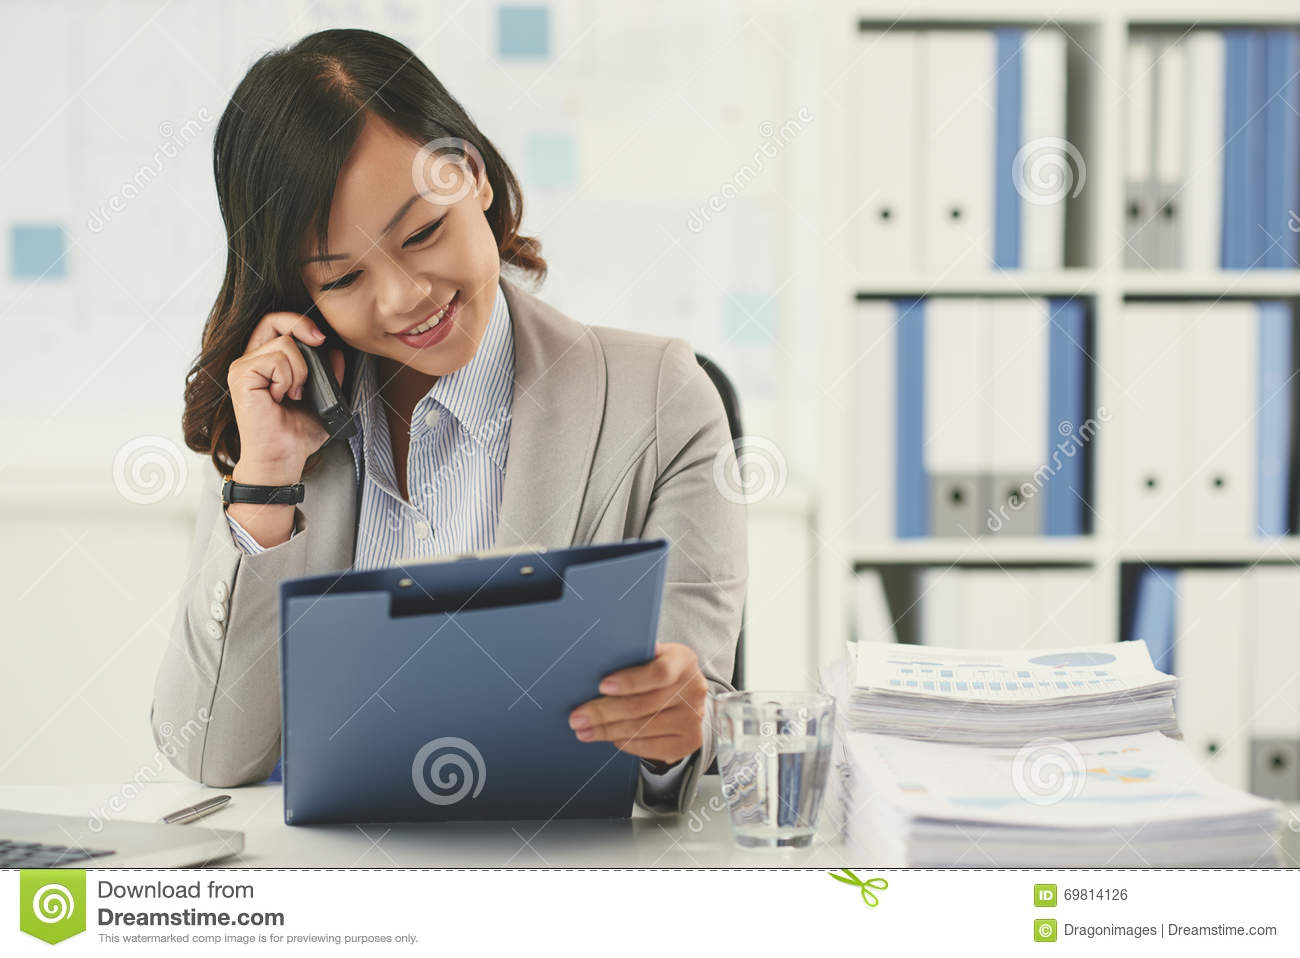phone: (279, 287, 360, 444)
talk: (222, 177, 500, 480)
